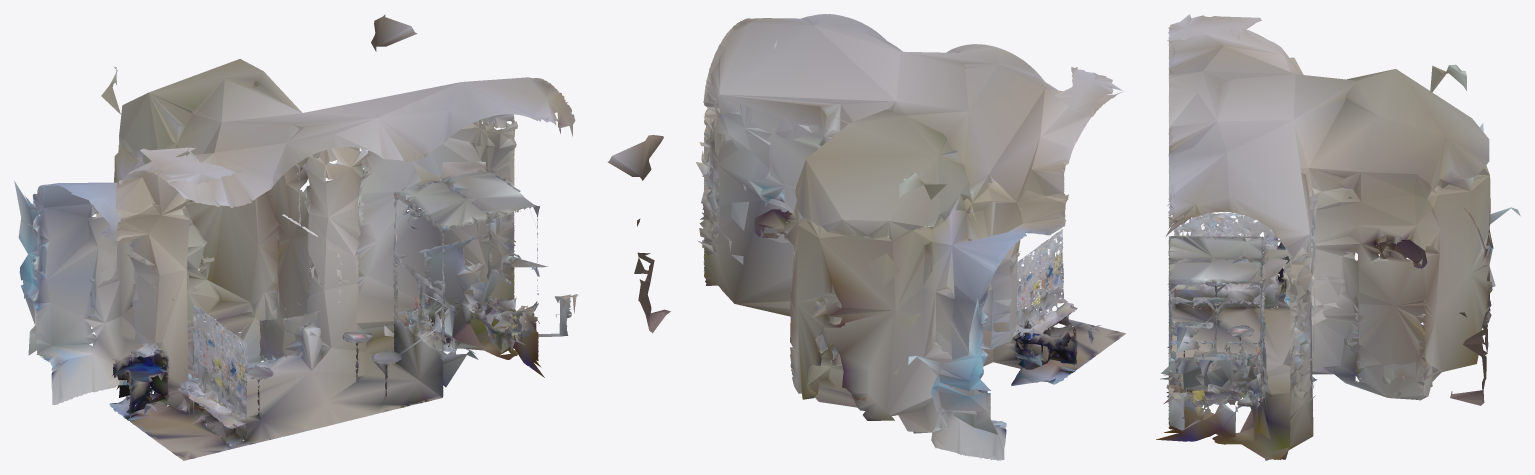
3 renders of one model, left to right at view 1: azimuth 30°, elevation 25°; view 2: azimuth 150°, elevation 25°; view 3: azimuth 270°, elevation 25°, orthographic. The views are drawn at different scales.
Bounding box in the file's own units: 10.48 × 7.89 × 8.46.
